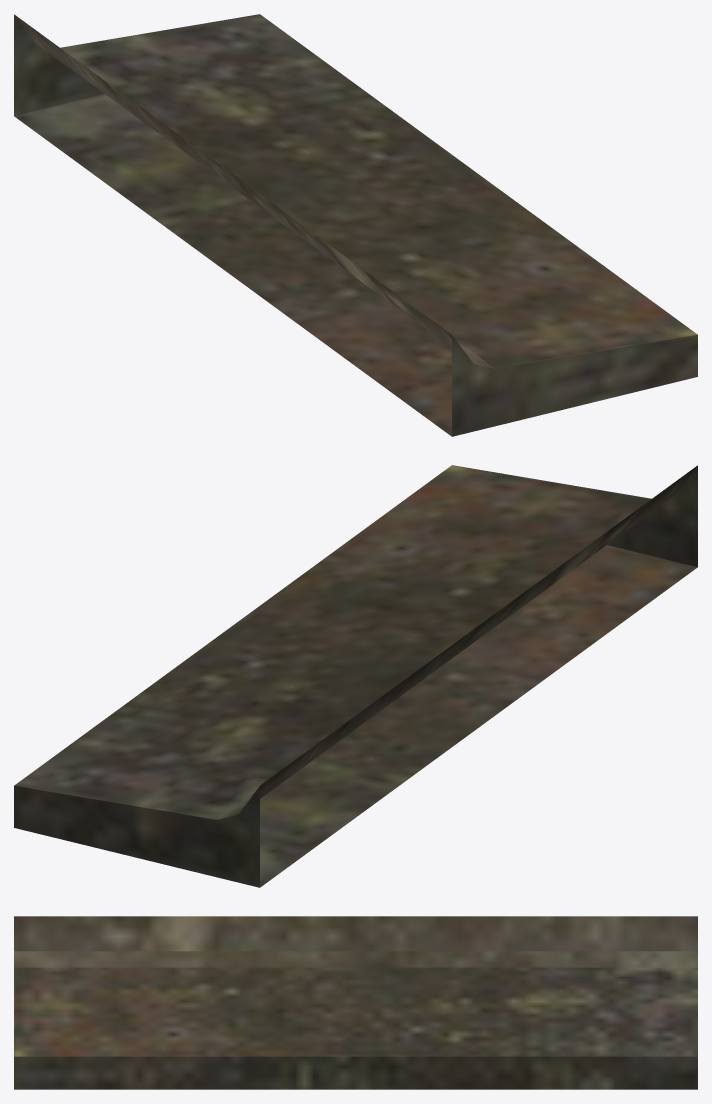
File: WindowTop_M.FBX
The picture shows the model from 3 angles, top to bottom: view 1: azimuth 30°, elevation 25°; view 2: azimuth 150°, elevation 25°; view 3: azimuth 270°, elevation 25°; orthographic projection. The views are drawn at different scales.
Parts seen in each view (by area): view 1: WindowTop_M; view 2: WindowTop_M; view 3: WindowTop_M.
Boxes of the visible parts, x1,y1,x2,y2 form: WindowTop_M: (14, 14, 697, 436); WindowTop_M: (14, 465, 697, 887); WindowTop_M: (14, 916, 697, 1089).
Size of the model in its own units: 80.93 by 32.1 by 250.
